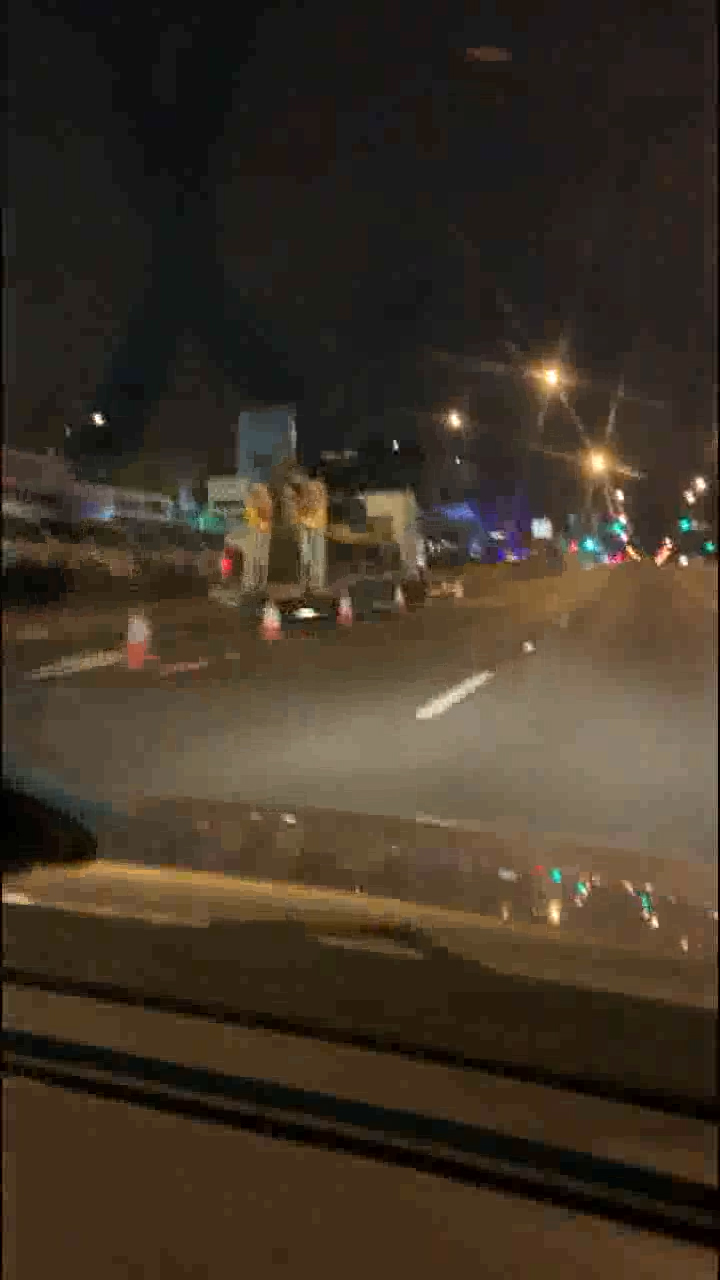truck: (203, 443, 453, 608)
